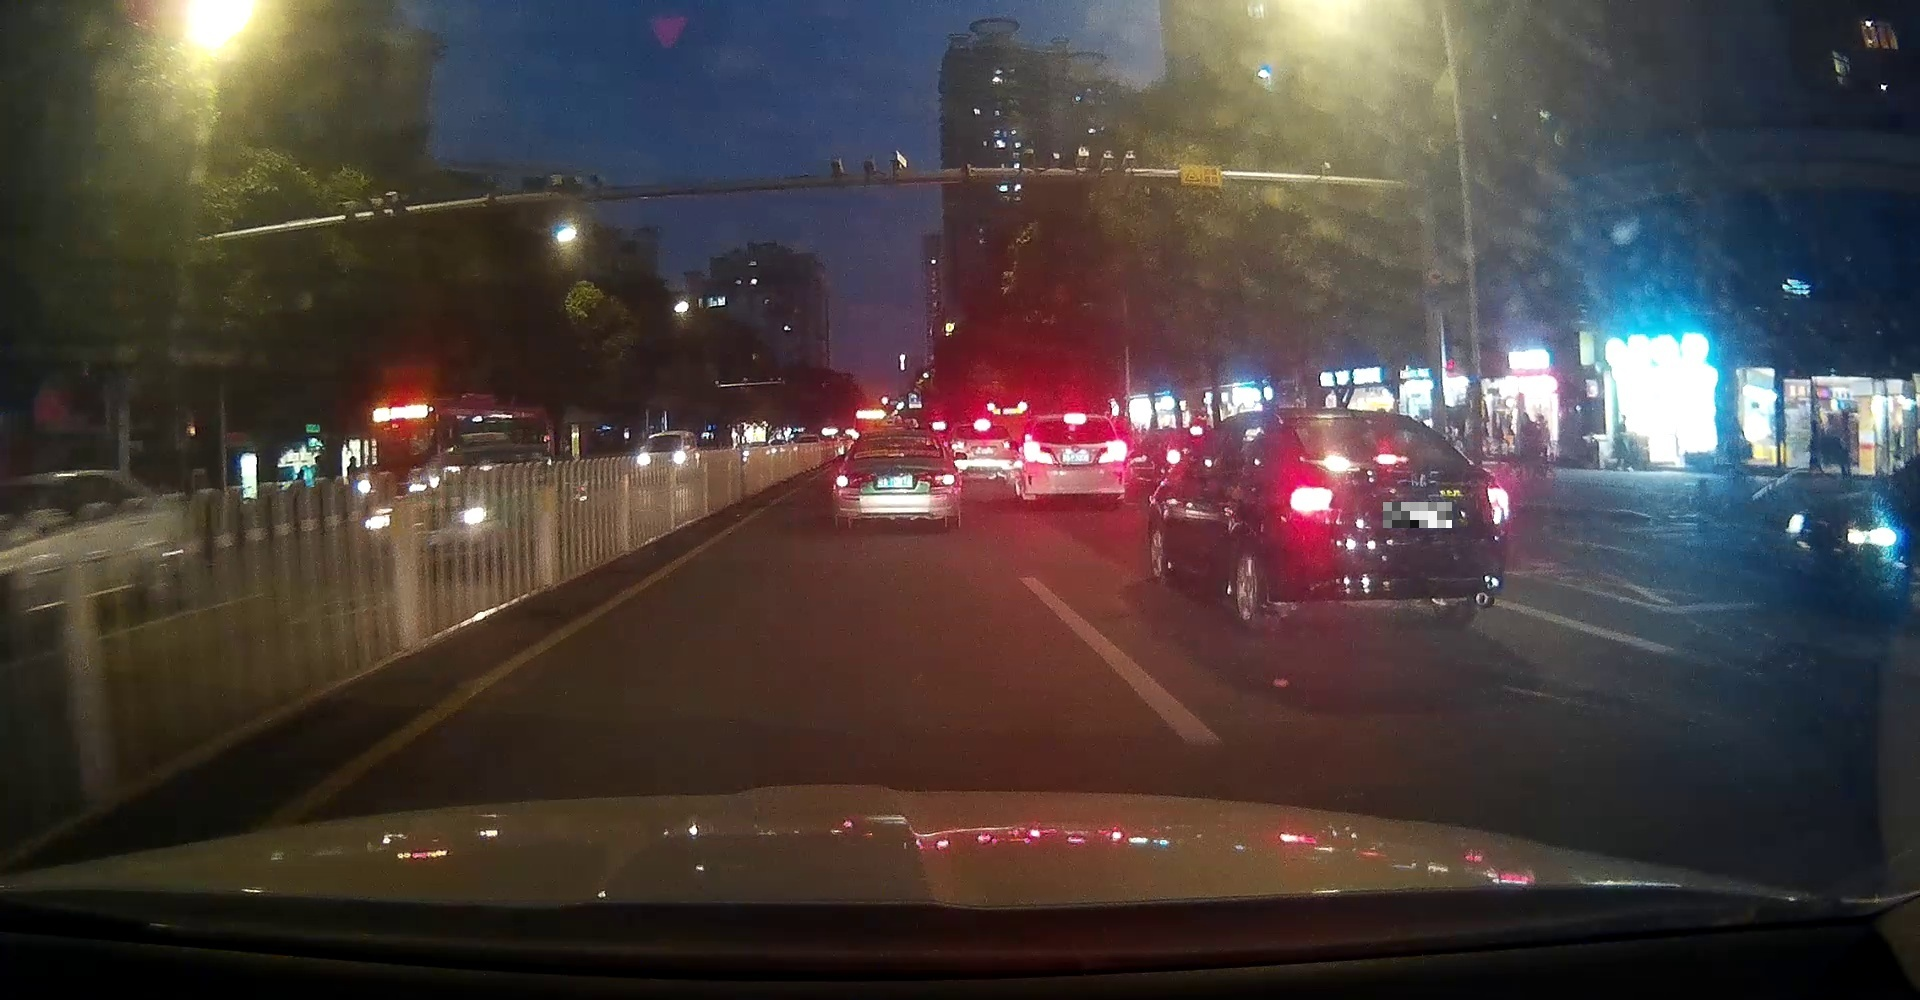L_light: (1277, 482, 1336, 525), (1022, 442, 1058, 464), (836, 472, 876, 489)
R_light: (1478, 484, 1510, 524), (1092, 442, 1126, 464), (916, 470, 956, 487)
T_light: (1371, 454, 1411, 467), (1064, 412, 1087, 424), (888, 435, 905, 438)
night-brake: (1275, 407, 1510, 636), (1022, 412, 1128, 511)
night-no: (832, 429, 960, 530)
plate_1: (1383, 503, 1451, 528)
